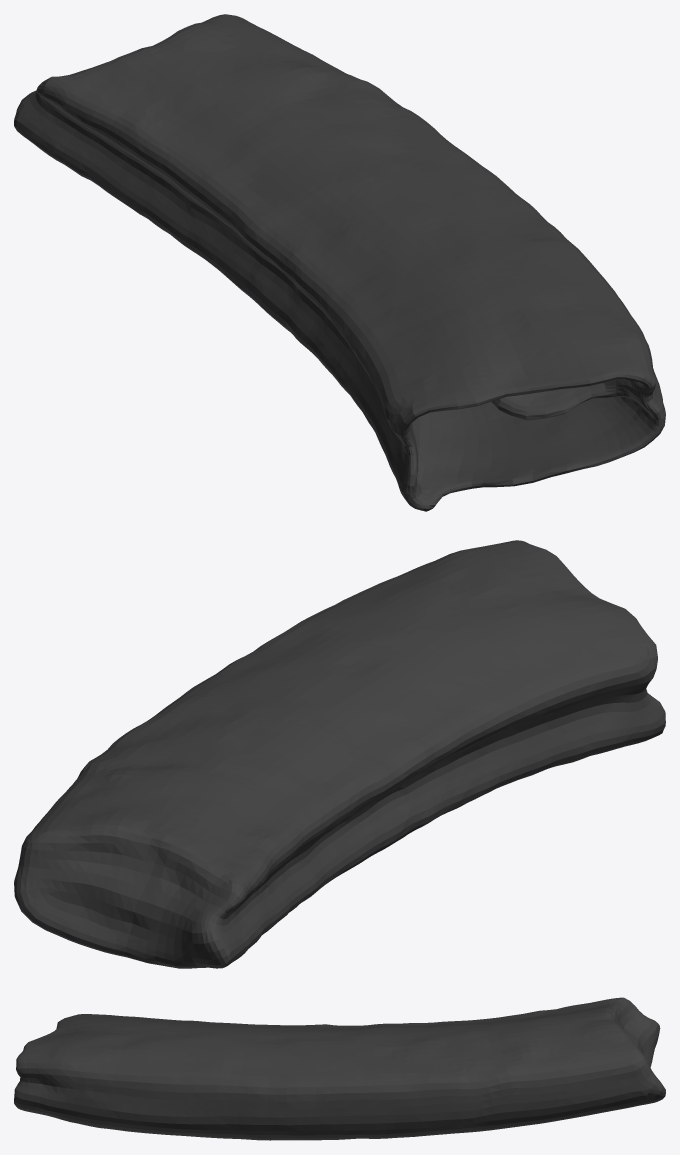
The model's file is tooth_rabbit_109_low.glb.
3 views of the same model, one above another, from view 1: azimuth 30°, elevation 25°; view 2: azimuth 150°, elevation 25°; view 3: azimuth 270°, elevation 25° (orthographic). The views are drawn at different scales.
Visible parts, largest first — view 1: tooth_rabbit_109_low; view 2: tooth_rabbit_109_low; view 3: tooth_rabbit_109_low.
Part boxes in pixels (x1,y1,x2,y2): tooth_rabbit_109_low: (14,14,665,511); tooth_rabbit_109_low: (14,540,665,968); tooth_rabbit_109_low: (14,997,665,1140).
Size of the model in its own units: 0.5168 by 0.2647 by 1.45.
Materials: 1 (1 with a texture image).
